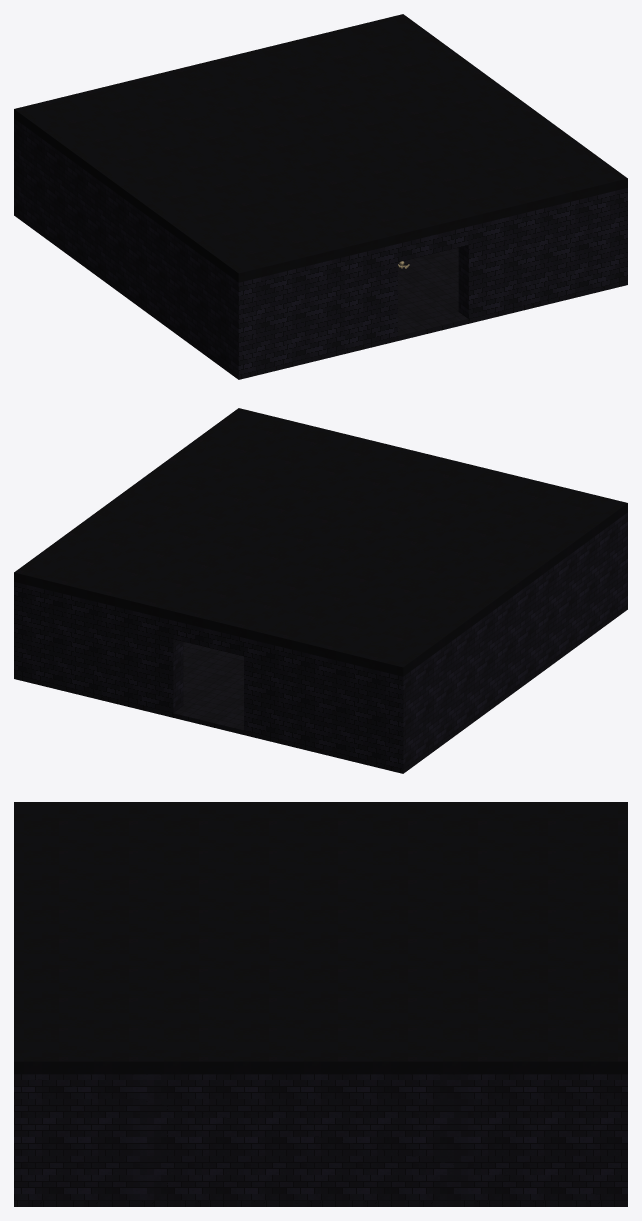
Rendered from d_halle.glb.
The picture shows the model from 3 angles, top to bottom: view 1: azimuth 30°, elevation 25°; view 2: azimuth 150°, elevation 25°; view 3: azimuth 270°, elevation 25°; orthographic projection. The views are drawn at different scales.
Parts seen in each view (by area): view 1: ceiling, wallW, wallS1, wallS-1, floor, wallE, lintelS; view 2: ceiling, wallW, wallN1, wallN-1, floor, wallE, lintelN; view 3: ceiling, wallE, floor.
Part boxes in pixels (x1=…): ceiling: x1=14, y1=14, x2=627, y2=282; wallW: x1=14, y1=118, x2=256, y2=375; wallS1: x1=458, y1=192, x2=610, y2=318; wallS-1: x1=256, y1=244, x2=397, y2=370; floor: x1=14, y1=211, x2=627, y2=379; wallE: x1=610, y1=188, x2=627, y2=284; lintelS: x1=398, y1=226, x2=468, y2=262; ceiling: x1=14, y1=408, x2=627, y2=676; wallW: x1=385, y1=512, x2=627, y2=769; wallN1: x1=31, y1=586, x2=183, y2=712; wallN-1: x1=244, y1=638, x2=385, y2=764; floor: x1=14, y1=605, x2=627, y2=773; wallE: x1=14, y1=582, x2=31, y2=678; lintelN: x1=173, y1=620, x2=243, y2=656; ceiling: x1=14, y1=802, x2=627, y2=1074; wallE: x1=14, y1=1074, x2=627, y2=1200; floor: x1=14, y1=1200, x2=627, y2=1206.
Bounding box in the file's own units: 44 × 11.5 × 44.
Materials: 10 (8 with a texture image).
